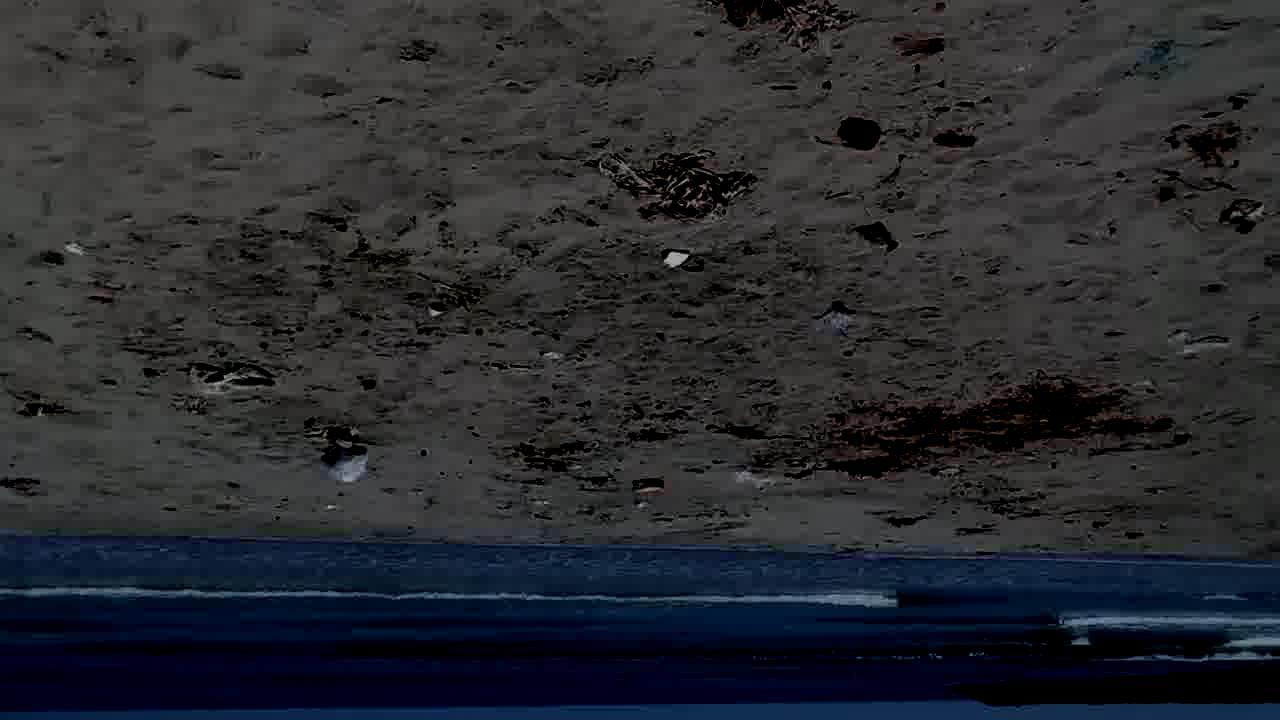obj: (772, 373, 1174, 490), (588, 142, 764, 228), (1158, 87, 1259, 236), (716, 5, 858, 54), (825, 110, 900, 173), (616, 393, 694, 449), (506, 434, 603, 478), (185, 360, 283, 394), (704, 402, 778, 442), (811, 298, 882, 335), (318, 433, 368, 485), (1168, 328, 1236, 357), (657, 247, 692, 271), (628, 476, 666, 498)
sand/background: (0, 541, 1280, 719)
